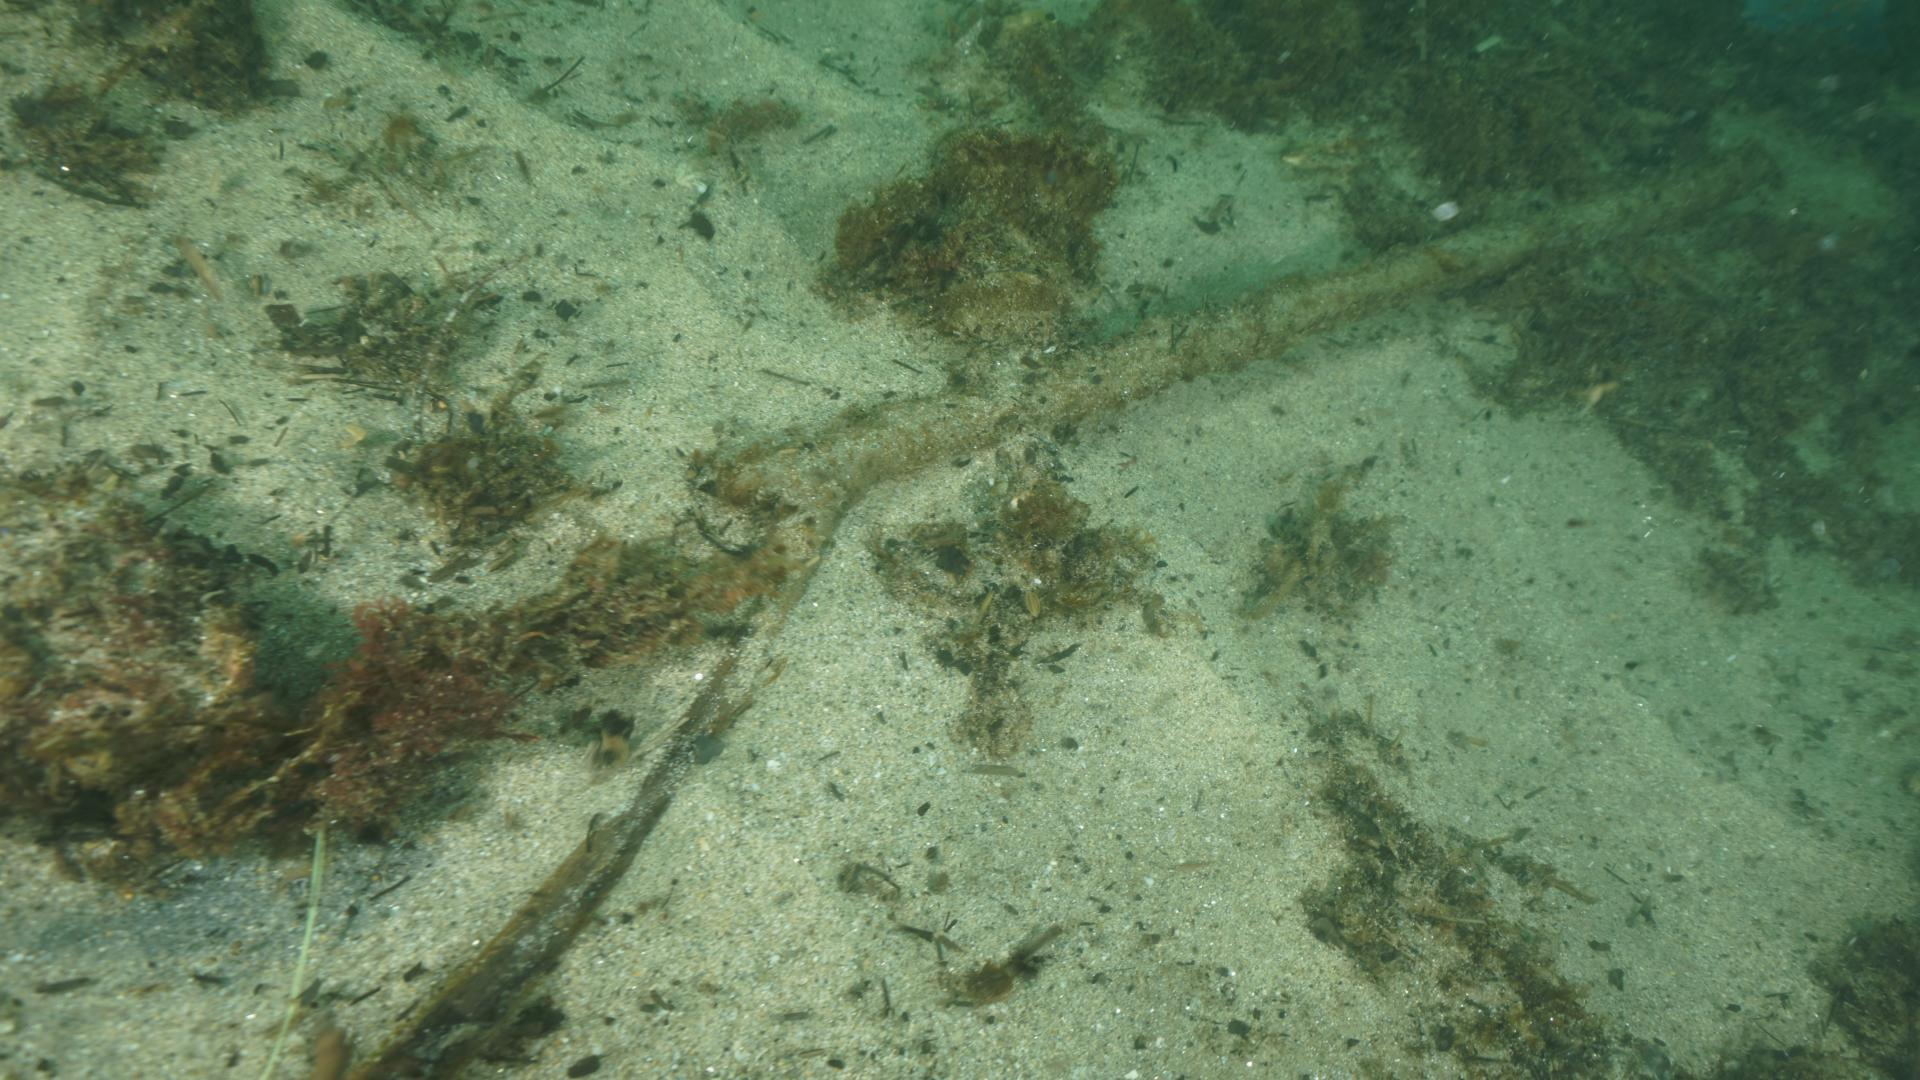wood: (363, 136, 1774, 1067)
